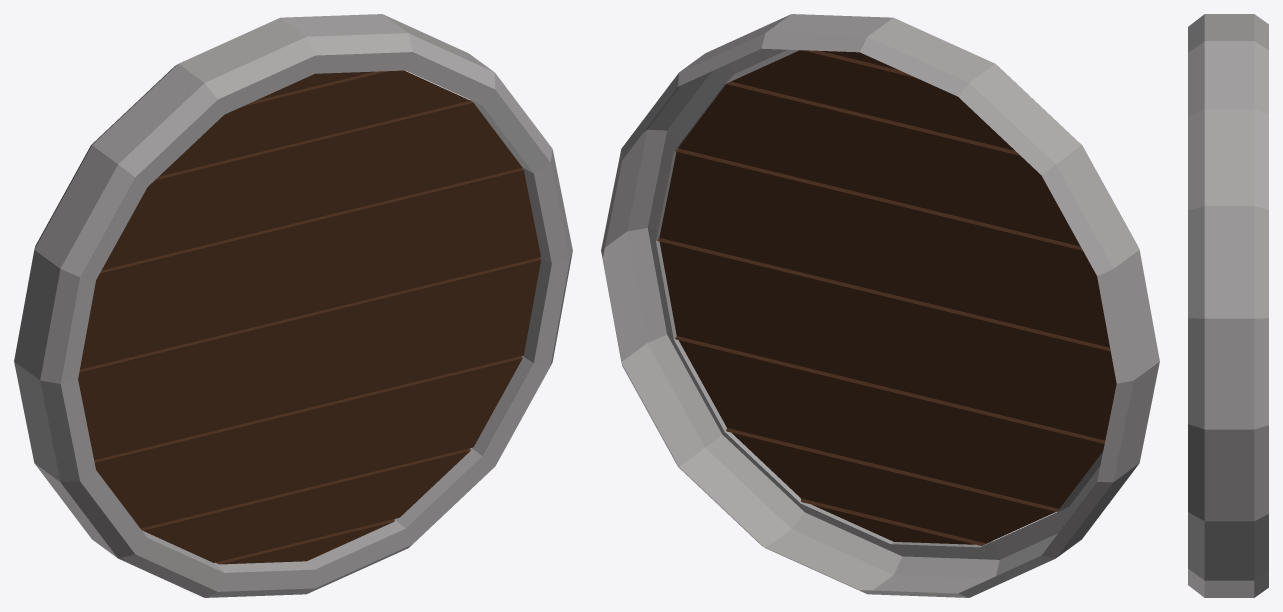
File: HeadTrapBase_3.fbx
The picture shows the model from 3 angles, left to right: view 1: azimuth 30°, elevation 25°; view 2: azimuth 150°, elevation 25°; view 3: azimuth 270°, elevation 25°; orthographic projection. The views are drawn at different scales.
Visible parts, largest first — view 1: HeadTrapBase_3; view 2: HeadTrapBase_3; view 3: HeadTrapBase_3.
Part boxes in pixels (box(x1,y1,x2,y2)): HeadTrapBase_3: box(14, 14, 572, 597); HeadTrapBase_3: box(601, 14, 1159, 597); HeadTrapBase_3: box(1188, 14, 1268, 597).
Bounding box in the file's own units: 60.63 × 60.63 × 8.4.
